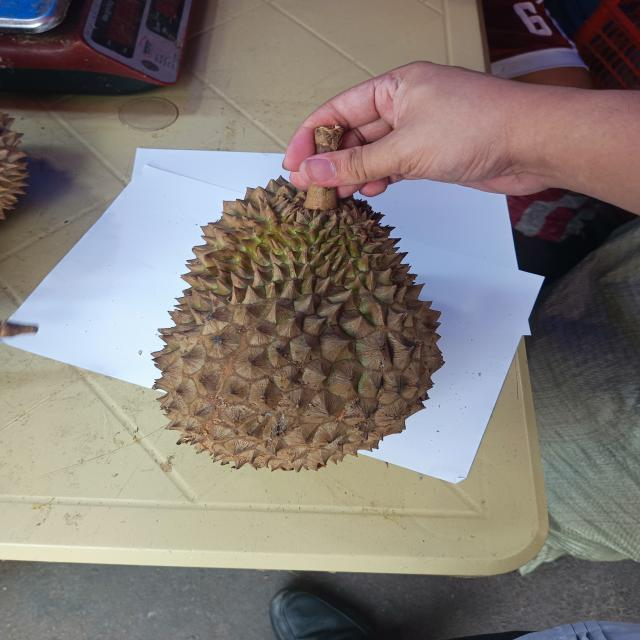mature: (150, 169, 444, 470)
